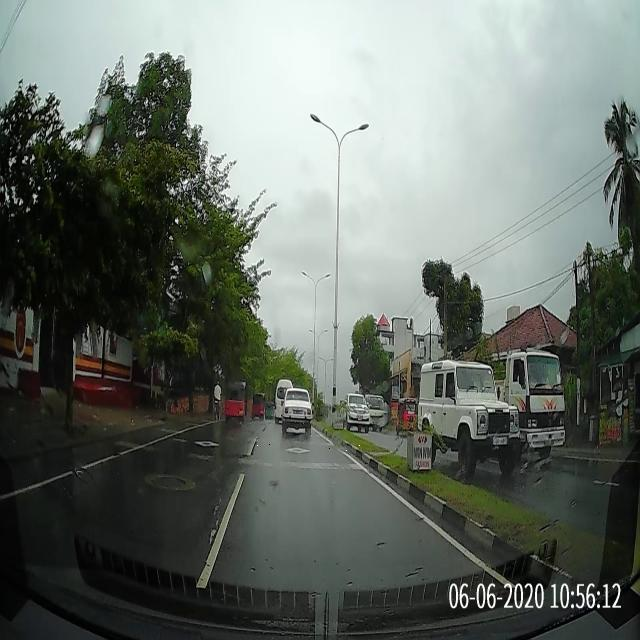diamond: (235, 438, 363, 465)
